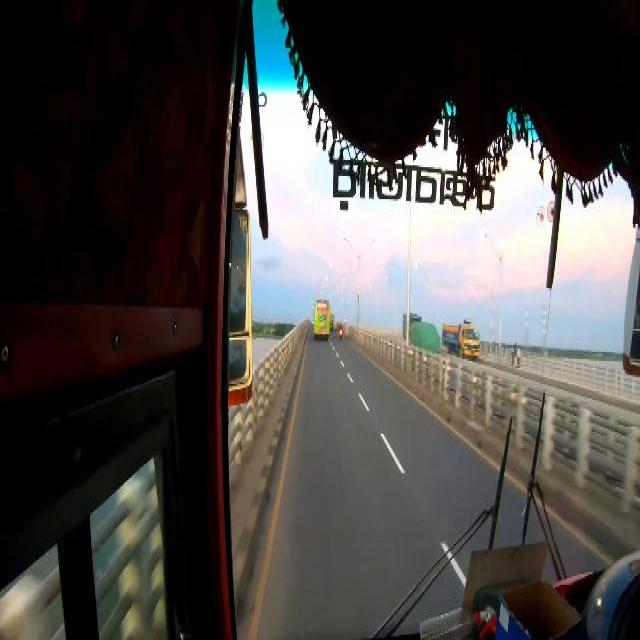bus: (313, 300, 329, 336)
motorbike: (338, 321, 342, 337)
truck: (440, 318, 480, 358)
